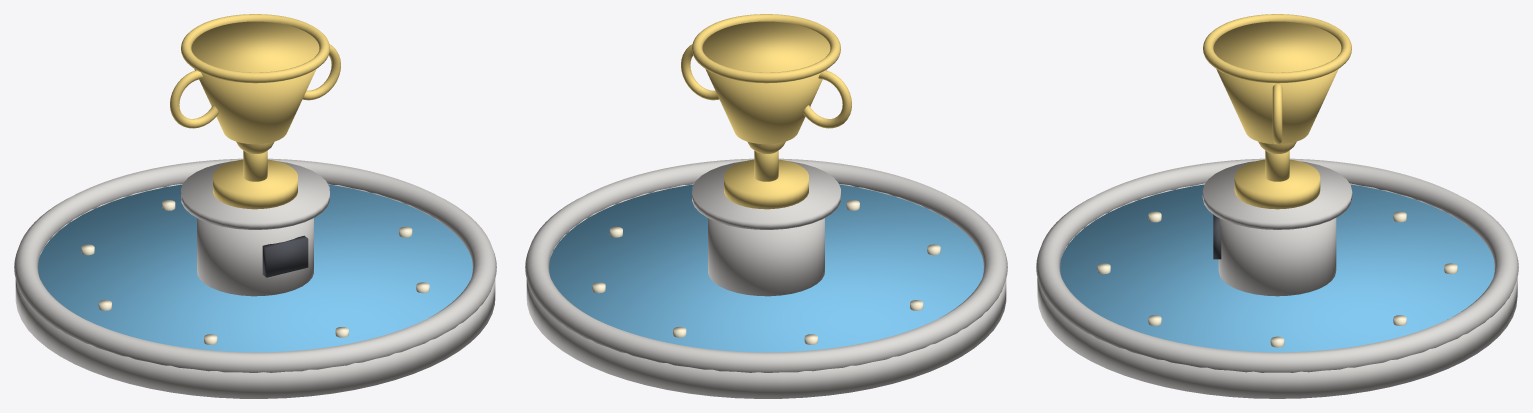
Rendered from TrophyFountain.fbx.
3 views of the same model, side by side, from view 1: azimuth 30°, elevation 25°; view 2: azimuth 150°, elevation 25°; view 3: azimuth 270°, elevation 25° (orthographic).
Parts seen in each view (by area): view 1: Marble.001, Water, Gold.001, Dark.003, Glow.003; view 2: Marble.001, Water, Gold.001, Glow.003; view 3: Marble.001, Water, Gold.001, Glow.003.
Part boxes in pixels (box(x1,y1,x2,y2)): Marble.001: box(14, 158, 496, 398); Water: box(38, 184, 472, 352); Gold.001: box(170, 14, 340, 209); Dark.003: box(262, 235, 308, 277); Glow.003: box(81, 200, 429, 344); Marble.001: box(525, 158, 1007, 398); Water: box(549, 184, 983, 352); Gold.001: box(681, 14, 851, 209); Glow.003: box(592, 200, 940, 344); Marble.001: box(1036, 158, 1518, 398); Water: box(1060, 184, 1494, 352); Gold.001: box(1203, 14, 1351, 209); Glow.003: box(1097, 211, 1457, 347).
Bounding box in the file's own units: 18.1 × 10.5 × 18.1.
